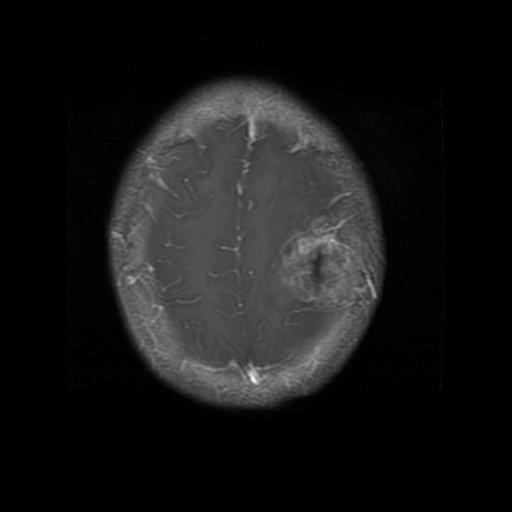Tumour-Glioma: (279, 223, 360, 309)
